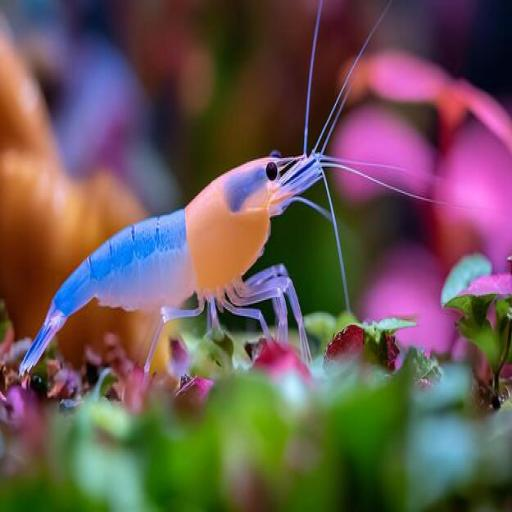Shrimp: (12, 47, 439, 400)
